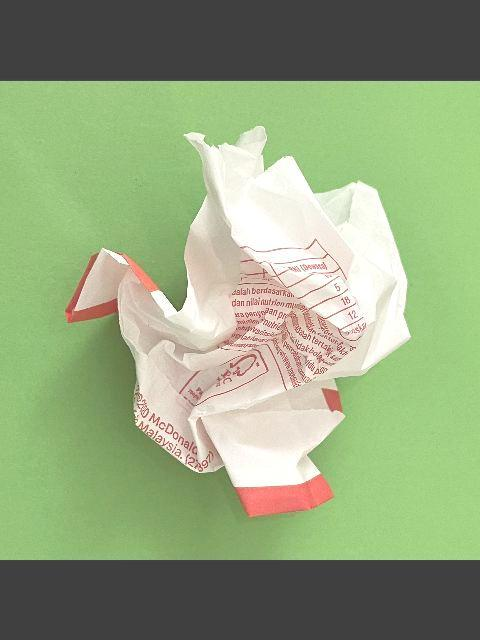paperbag: (62, 122, 414, 520)
